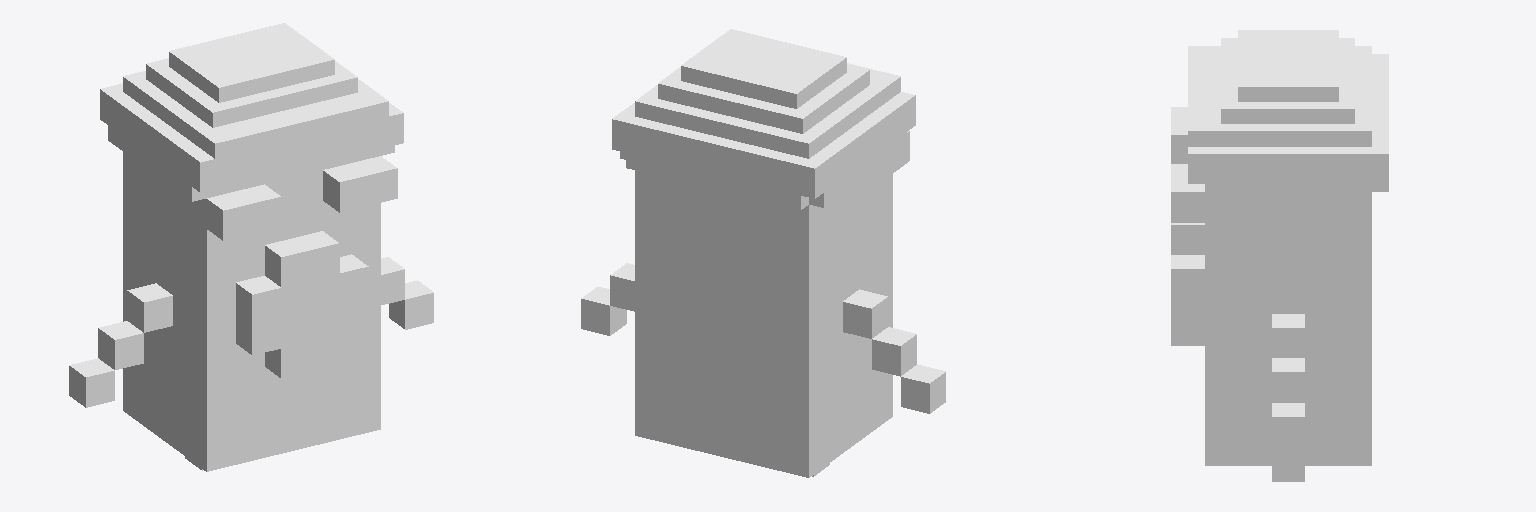
Rendered from OldManCharacter.obj.
3 views of the same model, side by side, from view 1: azimuth 30°, elevation 25°; view 2: azimuth 150°, elevation 25°; view 3: azimuth 270°, elevation 25° (orthographic).
Size of the model in its own units: 24 by 26 by 13.